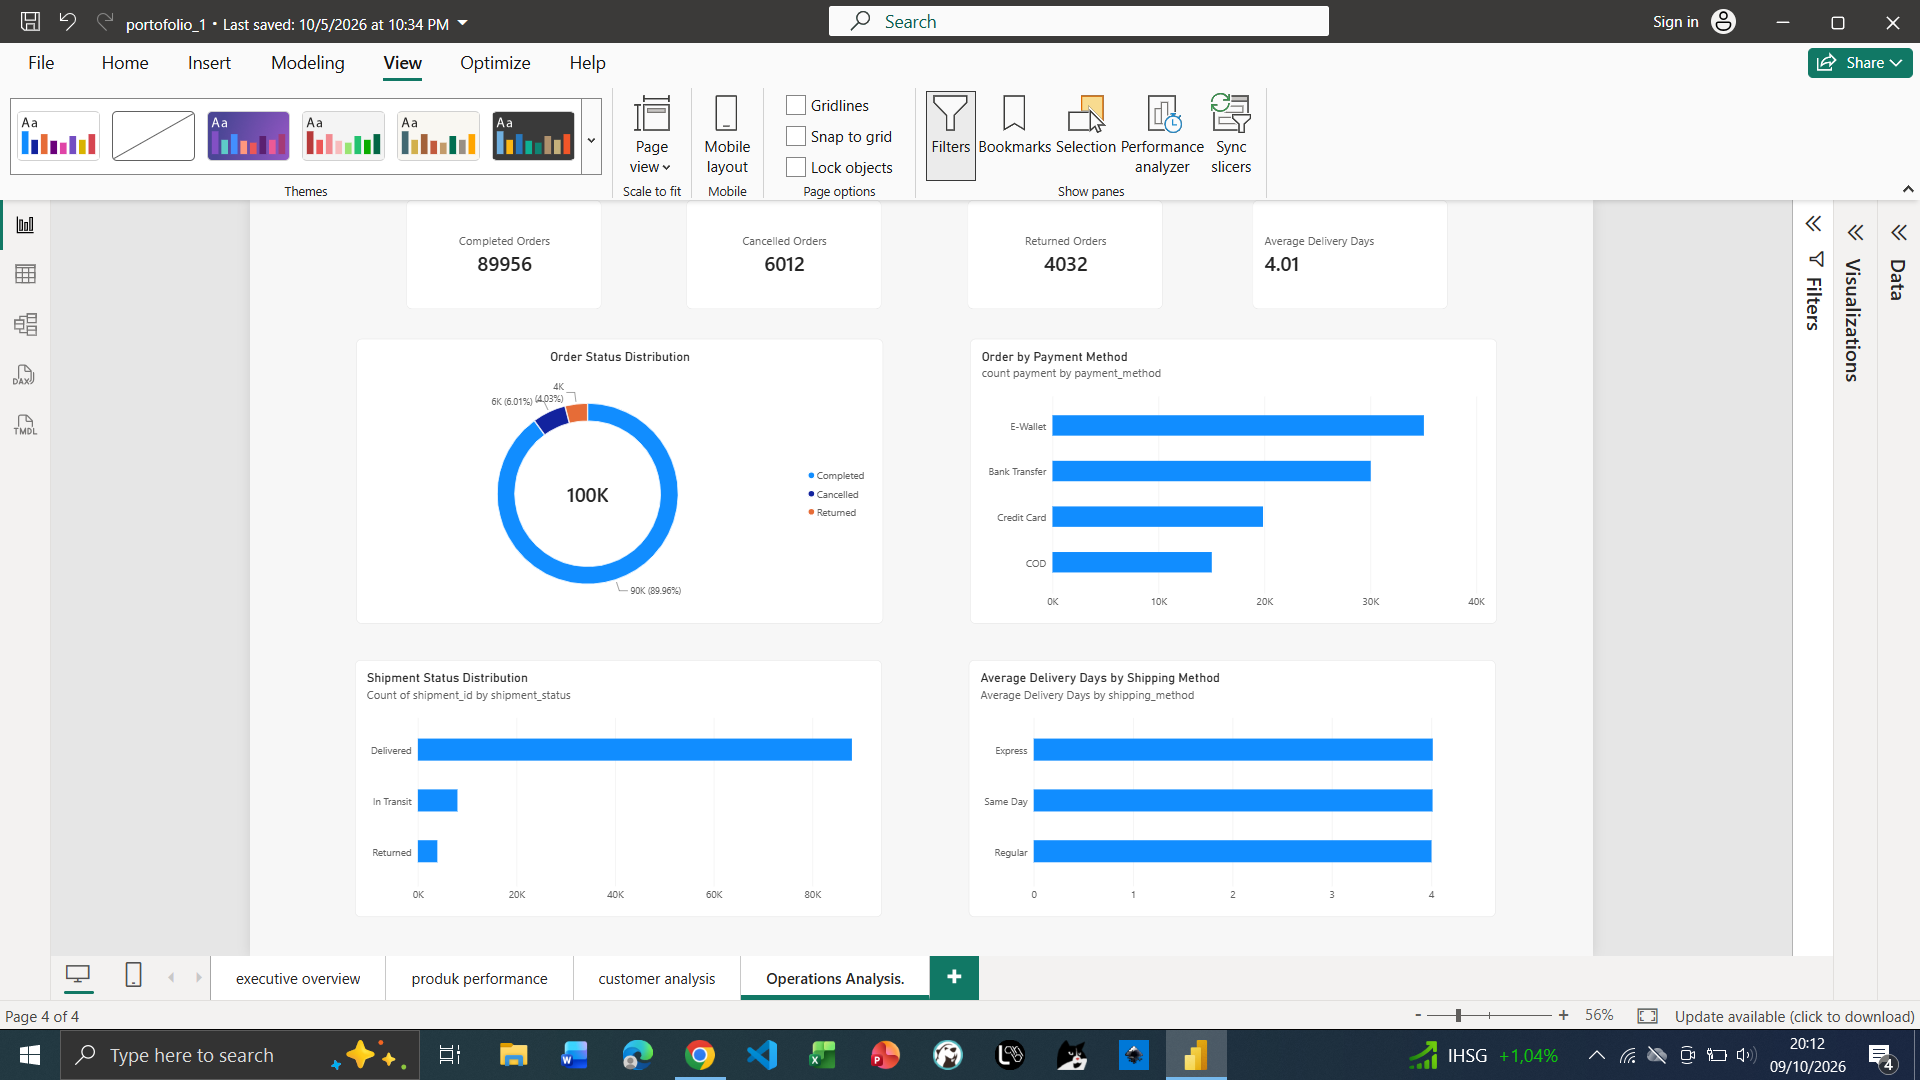

The page's visual inventory and layout, read from the dashboard file:
{"tool":"powerbi","page":{"name":"Operations Analysis.","canvas":[1920,1080],"ordinal":3},"visuals":[{"type":"cardVisual","fields":{"Data":["order_items.Completed Orders"]},"box":[222.5,0,279.9,156.4],"z":0},{"type":"cardVisual","fields":{"Data":["orders.Cancelled Orders"]},"box":[622.5,0,279.9,156.4],"z":1},{"type":"cardVisual","fields":{"Data":["orders.Returned Orders"]},"box":[1025,0,279.9,156.4],"z":2},{"type":"cardVisual","fields":{"Data":["orders.Average Delivery Days"]},"box":[1432.5,0,279.9,156.4],"z":3},{"type":"donutChart","title":"Order Status Distribution","fields":{"Category":["orders.order_status"],"Y":["orders.Total Orders"]},"box":[152,198,752.5,407.5],"z":4},{"type":"barChart","title":"Order by Payment Method","fields":{"Category":["payments.payment_method"],"Y":["payments.count payment"]},"box":[1028,198,752.5,407.5],"z":5},{"type":"clusteredBarChart","title":"Shipment Status Distribution","fields":{"Category":["shipments.shipment_status"],"Y":["Count(shipments.shipment_id)"]},"box":[150,658,753,367],"z":6},{"type":"clusteredBarChart","title":"Average Delivery  Days by Shipping Method","fields":{"Category":["shipments.shipping_method"],"Y":["orders.Average Delivery Days"]},"box":[1026,658,753,367],"z":7}]}

Visuals, with their boxes on the page's 1920x1080 design canvas (x1, y1, x2, y2). These are canvas units, not pixel positions in the 1920x1080 screenshot, which may show the page scaled, cropped or inside an application window:
cardVisual - order_items.Completed Orders: 222:0:502:156
cardVisual - orders.Cancelled Orders: 622:0:902:156
cardVisual - orders.Returned Orders: 1025:0:1305:156
cardVisual - orders.Average Delivery Days: 1432:0:1712:156
"Order Status Distribution" donutChart: 152:198:904:606
"Order by Payment Method" barChart: 1028:198:1780:606
"Shipment Status Distribution" clusteredBarChart: 150:658:903:1025
"Average Delivery  Days by Shipping Method" clusteredBarChart: 1026:658:1779:1025
